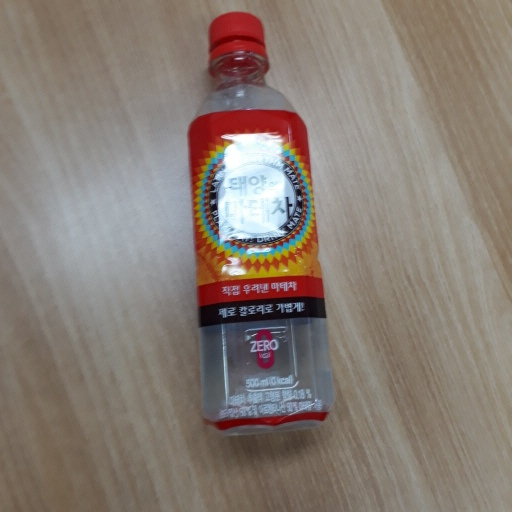Plastic_0: (187, 10, 338, 433)
